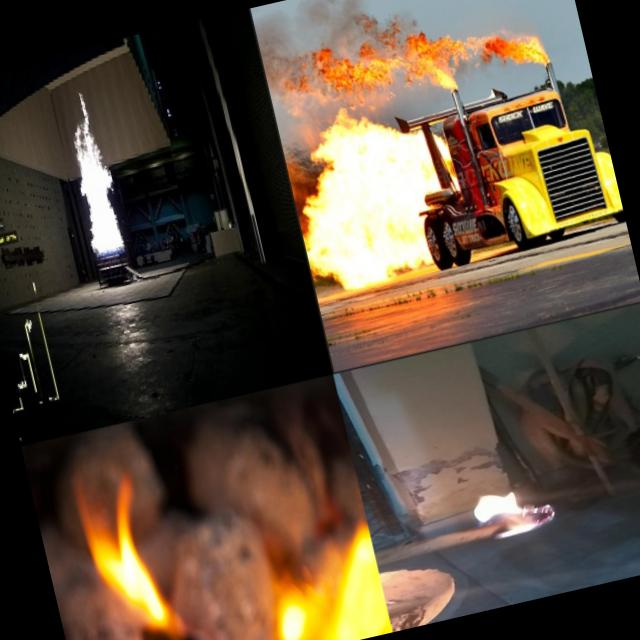fire: (276, 100, 438, 306), (70, 469, 187, 640), (261, 0, 560, 64), (250, 514, 392, 640), (55, 90, 135, 268), (457, 470, 572, 551)
smoke: (248, 0, 364, 62)
